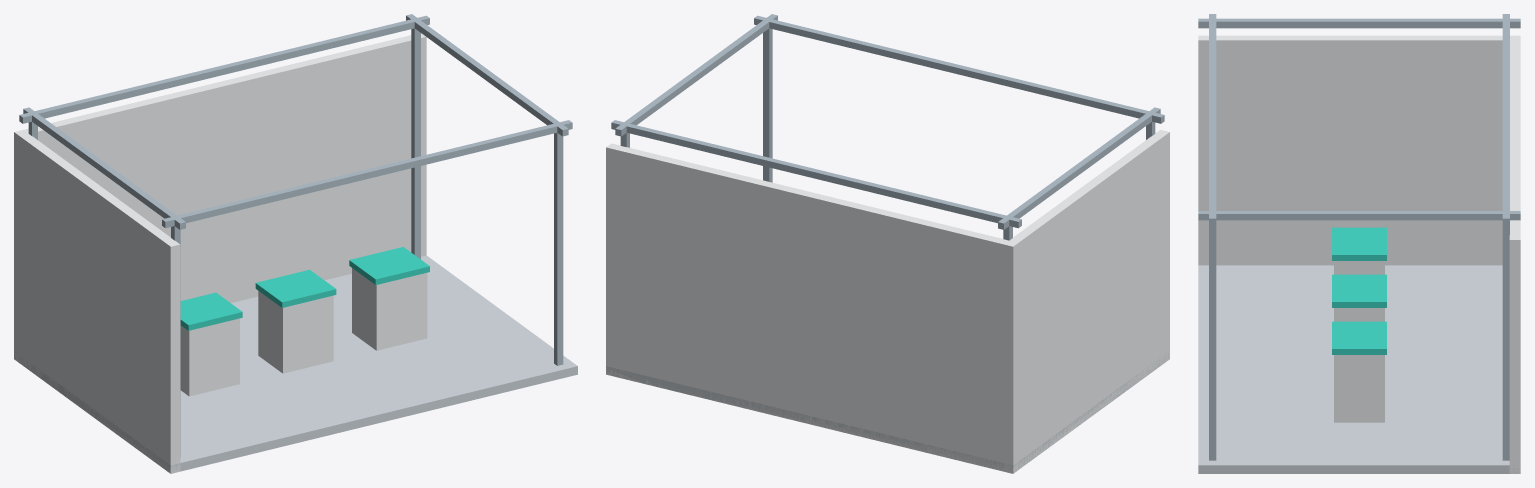
3 renders of one model, left to right at view 1: azimuth 30°, elevation 25°; view 2: azimuth 150°, elevation 25°; view 3: azimuth 270°, elevation 25°, orthographic. The views are drawn at different scales.
Visible parts, largest first — view 1: Exhibition Booth Concept; view 2: Exhibition Booth Concept; view 3: Exhibition Booth Concept.
Boxes of the visible parts, <box> form: Exhibition Booth Concept: <box>14,14,577,473</box>; Exhibition Booth Concept: <box>606,14,1169,473</box>; Exhibition Booth Concept: <box>1198,14,1520,473</box>.
Size of the model in its own units: 6 by 3.49 by 4.
